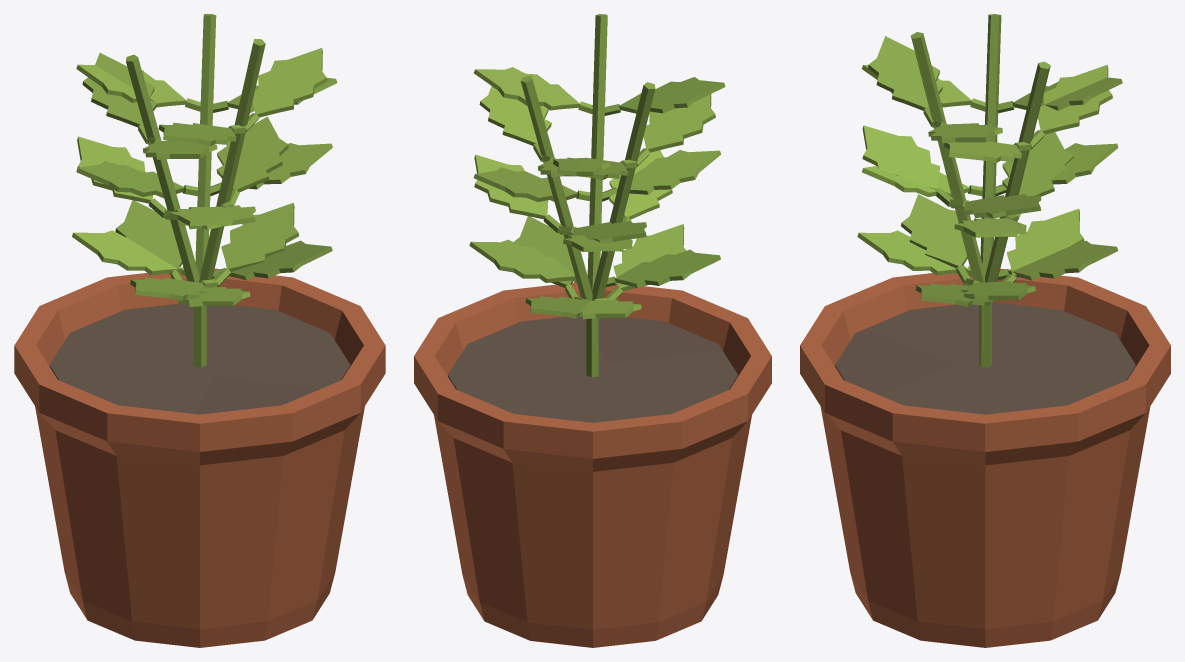
File: lemonbalm.glb
The picture shows the model from 3 angles, left to right: view 1: azimuth 30°, elevation 25°; view 2: azimuth 150°, elevation 25°; view 3: azimuth 270°, elevation 25°; orthographic projection. The views are drawn at different scales.
Parts seen in each view (by area): view 1: lemonbalm/review-terra-vessel, lemonbalm/review-rooted-soil, lemonbalm/stem-014, lemonbalm/leaf-026, lemonbalm/stem-001, lemonbalm/leaf-018, lemonbalm/leaf-022, lemonbalm/stem-027, lemonbalm/leaf-003, lemonbalm/leaf-031, lemonbalm/leaf-011, lemonbalm/leaf-035 (+10 smaller); view 2: lemonbalm/review-terra-vessel, lemonbalm/review-rooted-soil, lemonbalm/stem-014, lemonbalm/stem-027, lemonbalm/stem-001, lemonbalm/leaf-018, lemonbalm/leaf-013, lemonbalm/leaf-020, lemonbalm/leaf-016, lemonbalm/leaf-026, lemonbalm/leaf-037, lemonbalm/leaf-024 (+11 smaller); view 3: lemonbalm/review-terra-vessel, lemonbalm/review-rooted-soil, lemonbalm/stem-014, lemonbalm/leaf-016, lemonbalm/leaf-020, lemonbalm/stem-001, lemonbalm/leaf-024, lemonbalm/stem-027, lemonbalm/leaf-031, lemonbalm/leaf-039, lemonbalm/leaf-035, lemonbalm/leaf-003 (+11 smaller).
Part boxes in pixels (x1,y1,x2,y2): lemonbalm/review-terra-vessel: (14,268,385,647); lemonbalm/review-rooted-soil: (49,303,350,414); lemonbalm/stem-014: (194,39,265,367); lemonbalm/leaf-026: (252,48,327,117); lemonbalm/stem-001: (126,54,206,367); lemonbalm/leaf-018: (221,202,298,271); lemonbalm/leaf-022: (216,116,288,192); lemonbalm/stem-027: (195,14,216,330); lemonbalm/leaf-003: (115,200,182,274); lemonbalm/leaf-031: (72,230,181,275); lemonbalm/leaf-011: (82,53,156,127); lemonbalm/leaf-035: (76,160,184,198); lemonbalm/review-terra-vessel: (414,282,771,647); lemonbalm/review-rooted-soil: (448,316,737,422); lemonbalm/stem-014: (586,14,607,370); lemonbalm/stem-027: (520,76,598,377); lemonbalm/stem-001: (586,82,655,377); lemonbalm/leaf-018: (469,239,575,282); lemonbalm/leaf-013: (643,94,715,152); lemonbalm/leaf-020: (616,150,721,194); lemonbalm/leaf-016: (614,249,720,287); lemonbalm/leaf-026: (474,67,579,110); lemonbalm/leaf-037: (479,86,551,145); lemonbalm/leaf-024: (619,77,725,113); lemonbalm/review-terra-vessel: (800,268,1170,647); lemonbalm/review-rooted-soil: (835,302,1135,414); lemonbalm/stem-014: (910,32,989,367); lemonbalm/leaf-016: (901,194,967,268); lemonbalm/leaf-020: (862,125,940,189); lemonbalm/stem-001: (979,14,1001,366); lemonbalm/leaf-024: (868,36,942,110); lemonbalm/stem-027: (981,61,1050,366); lemonbalm/leaf-031: (1007,208,1084,277); lemonbalm/leaf-039: (1038,65,1112,134); lemonbalm/leaf-035: (1002,132,1073,196); lemonbalm/leaf-003: (1008,240,1118,280).
Size of the model in its own units: 0.19 by 0.3228 by 0.19.
3 materials, 3 textured.
